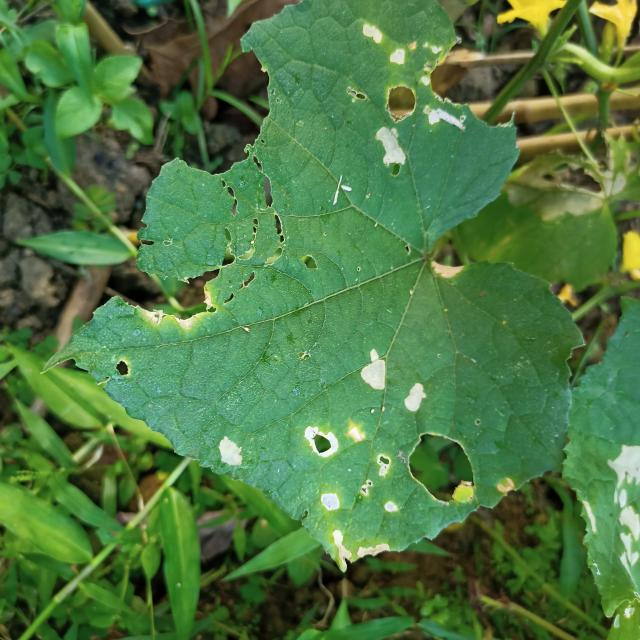disease_cucumber: (215, 422, 408, 565), (355, 20, 470, 176), (358, 347, 432, 415)
